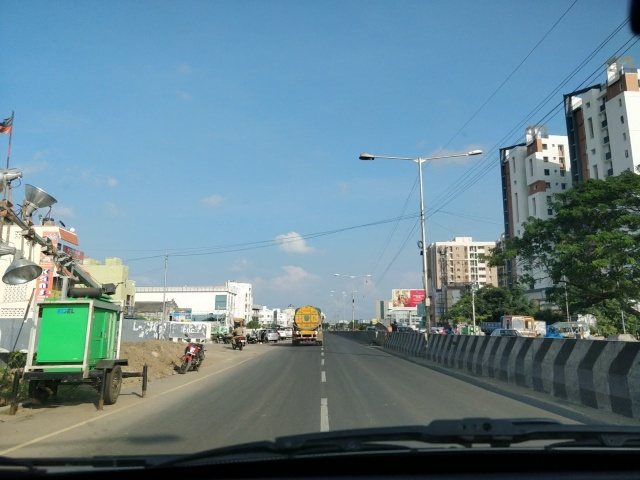motobike: (185, 334, 201, 373)
truck: (293, 308, 319, 343)
